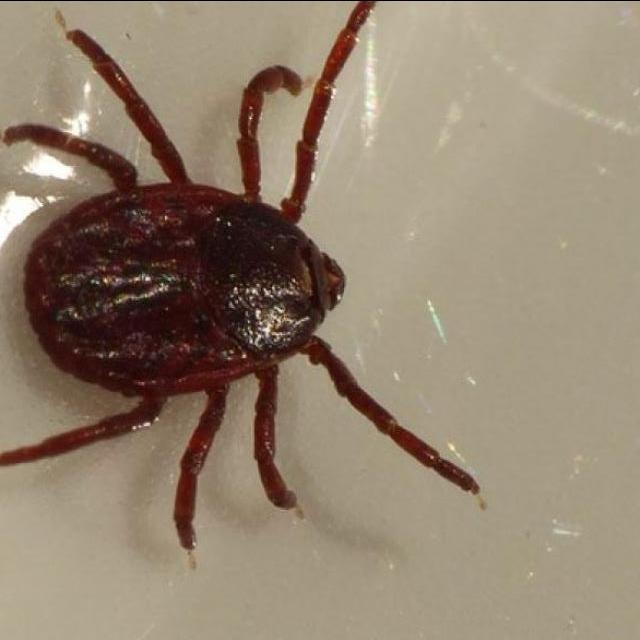Rhipicephalus Sanguineus-F: (0, 0, 478, 554)
